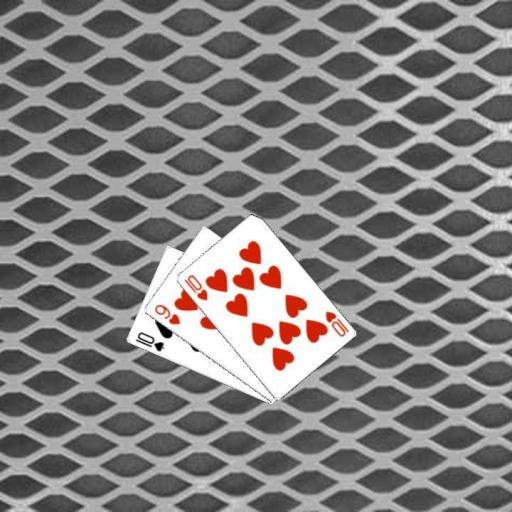10H: (321, 308, 350, 338), (181, 272, 209, 302)
10S: (132, 329, 166, 354)
9H: (151, 301, 181, 326)
